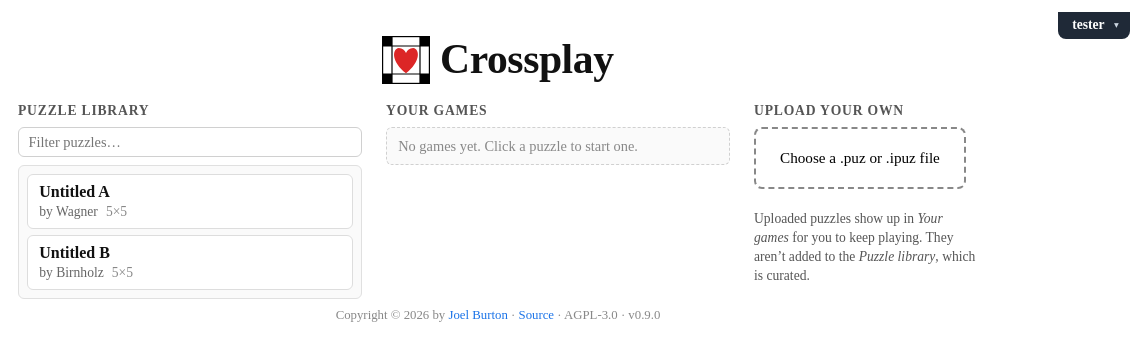
Test: HomePage › filters the puzzle library by author too
Type "birn" into the search field named "Filter puzzle library".
click(190, 142); type("birn")  # box [18,127,362,157]
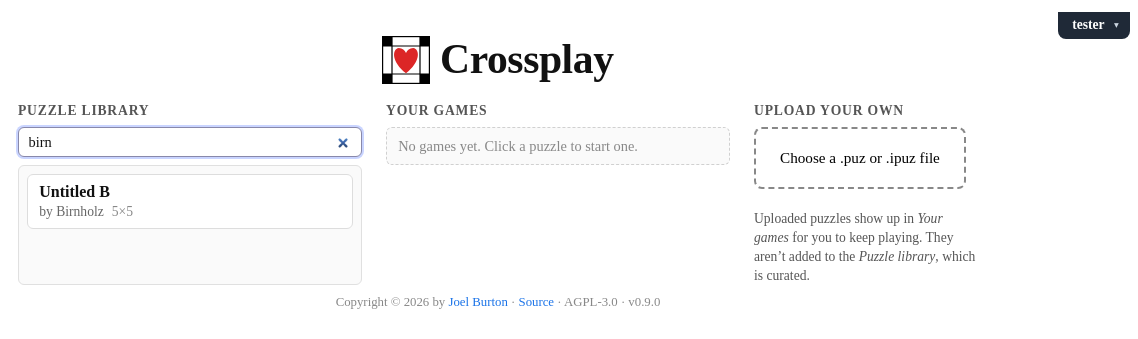
Expected: the text "Untitled B" is shown, [39,183,110,201]
Result: the button "Untitled A" is gone
